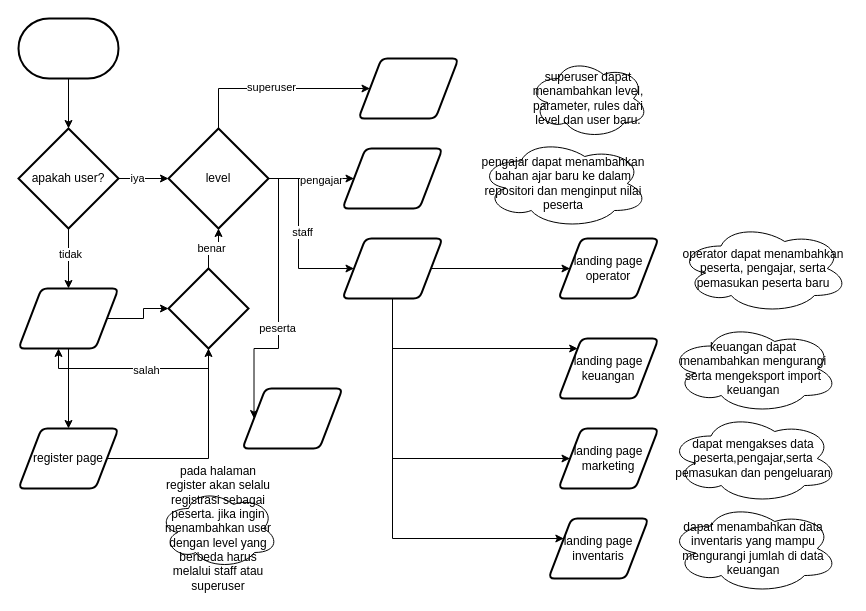
Image size: 866x611. Some labels were removed from this diagram. Here are the shapes that lost their labels. From the top down, the box of each, then its label:
(17, 17, 119, 79): alkahfitc/
(357, 57, 459, 119): landing page superuser
(341, 147, 443, 209): landing page pengajar
(341, 237, 443, 299): landing page staff
(17, 287, 119, 349): landing page guest
(167, 267, 249, 349): login page
(241, 387, 343, 449): landing page peserta
